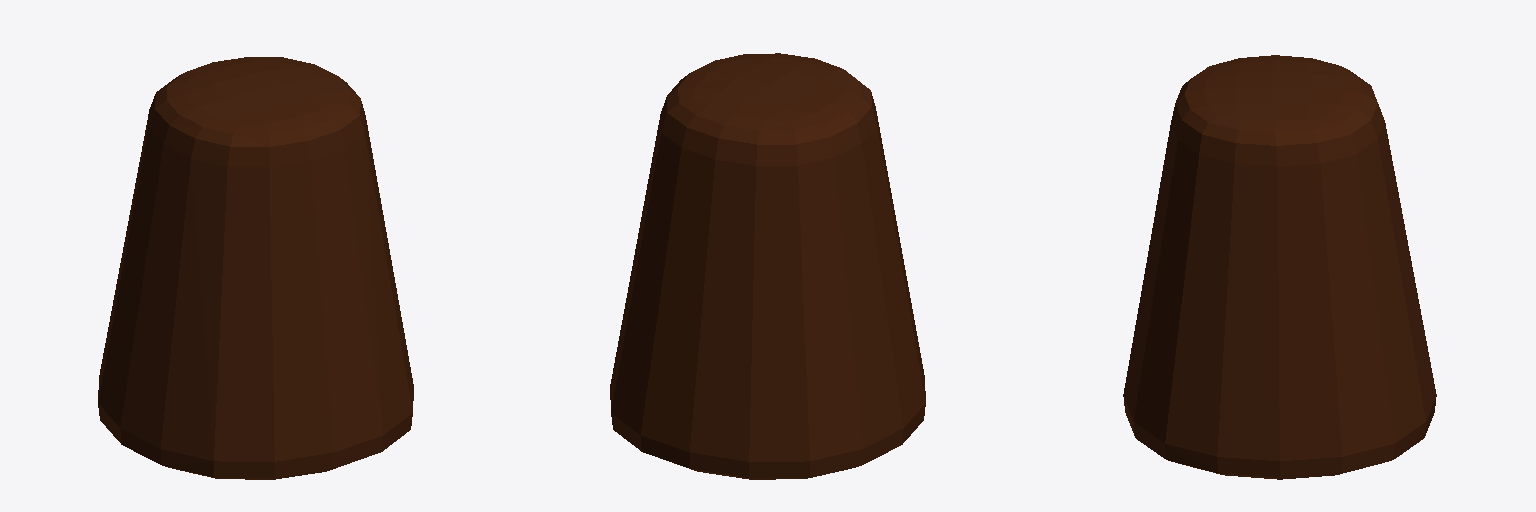
File: RockPlatform_Tall.obj
3 renders of one model, left to right at view 1: azimuth 30°, elevation 25°; view 2: azimuth 150°, elevation 25°; view 3: azimuth 270°, elevation 25°, orthographic.
Parts seen in each view (by area): view 1: RockPlatform_Tall_Cube.379; view 2: RockPlatform_Tall_Cube.379; view 3: RockPlatform_Tall_Cube.379.
Boxes of the visible parts, box(x1,y1,x2,y2) form: RockPlatform_Tall_Cube.379: box(98, 57, 413, 479); RockPlatform_Tall_Cube.379: box(610, 53, 925, 479); RockPlatform_Tall_Cube.379: box(1123, 55, 1436, 479).
Size of the model in its own units: 3.58 by 4.26 by 3.58.